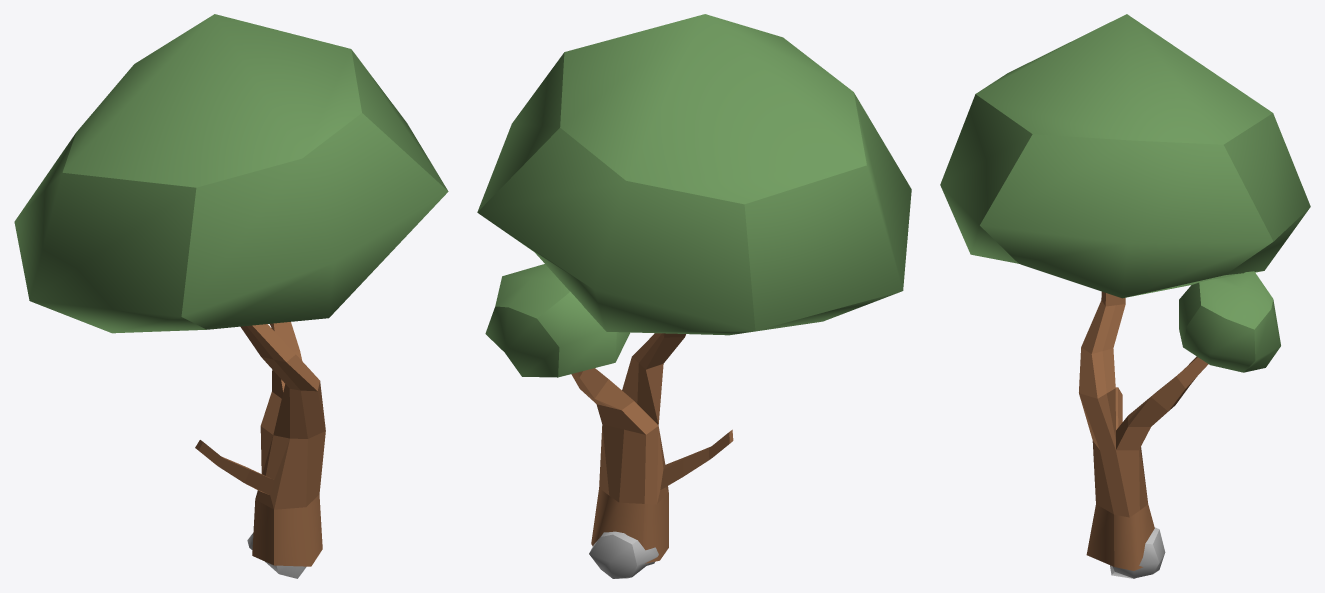
The model's file is tree3.gltf.
3 renders of one model, left to right at view 1: azimuth 30°, elevation 25°; view 2: azimuth 150°, elevation 25°; view 3: azimuth 270°, elevation 25°, orthographic. The views are drawn at different scales.
Parts seen in each view (by area): view 1: pCube2, pCube1; view 2: pCube2, pCube1, pCube3, pCube4; view 3: pCube2, pCube1, pCube3, pCube4.
Boxes of the visible parts, box(x1,y1,x2,y2) form: pCube2: box(14, 14, 448, 333); pCube1: box(195, 322, 325, 566); pCube2: box(477, 14, 911, 335); pCube1: box(571, 333, 733, 563); pCube3: box(485, 264, 630, 377); pCube4: box(589, 531, 658, 578); pCube2: box(940, 14, 1310, 298); pCube1: box(1079, 291, 1208, 570); pCube3: box(1179, 271, 1280, 372); pCube4: box(1110, 527, 1165, 578).
Size of the model in its own units: 7.98 by 11.51 by 7.27.
